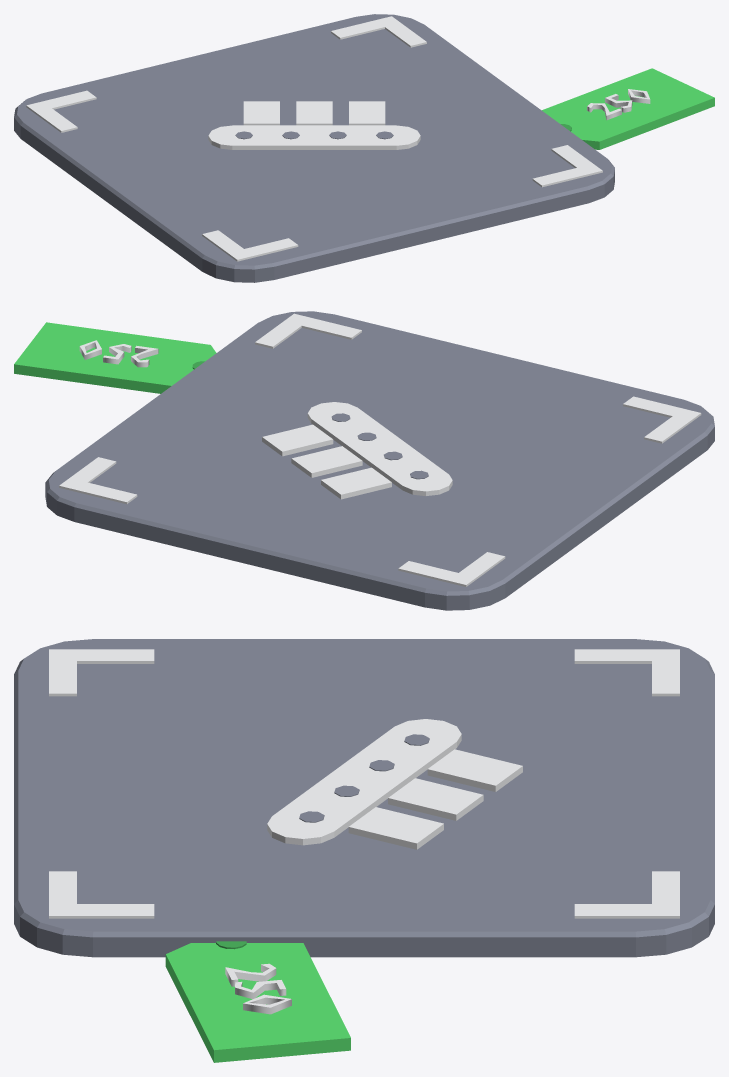
Rendered from Icon_Pad_Conveyor.glb.
3 renders of one model, top to bottom at view 1: azimuth 30°, elevation 25°; view 2: azimuth 150°, elevation 25°; view 3: azimuth 270°, elevation 25°, orthographic. The views are drawn at different scales.
Visible parts, largest first — view 1: Icon_Pad_Conveyor_Base, Icon_Pad_Conveyor_Pictogram, Icon_Pad_Conveyor_PriceTag, Icon_Pad_Conveyor_Corner_Brackets, Icon_Pad_Conveyor_PriceText; view 2: Icon_Pad_Conveyor_Base, Icon_Pad_Conveyor_Pictogram, Icon_Pad_Conveyor_PriceTag, Icon_Pad_Conveyor_Corner_Brackets, Icon_Pad_Conveyor_PriceText; view 3: Icon_Pad_Conveyor_Base, Icon_Pad_Conveyor_Pictogram, Icon_Pad_Conveyor_PriceTag, Icon_Pad_Conveyor_Corner_Brackets, Icon_Pad_Conveyor_PriceText.
Part boxes in pixels (x1,y1,x2,y2): Icon_Pad_Conveyor_Base: [14, 14, 614, 282]; Icon_Pad_Conveyor_Pictogram: [208, 101, 420, 149]; Icon_Pad_Conveyor_PriceTag: [542, 68, 714, 149]; Icon_Pad_Conveyor_Corner_Brackets: [26, 16, 602, 261]; Icon_Pad_Conveyor_PriceText: [587, 89, 650, 120]; Icon_Pad_Conveyor_Base: [45, 311, 714, 610]; Icon_Pad_Conveyor_Pictogram: [262, 402, 452, 499]; Icon_Pad_Conveyor_PriceTag: [14, 322, 216, 393]; Icon_Pad_Conveyor_Corner_Brackets: [59, 313, 701, 586]; Icon_Pad_Conveyor_PriceText: [79, 340, 158, 367]; Icon_Pad_Conveyor_Base: [14, 639, 714, 957]; Icon_Pad_Conveyor_Pictogram: [267, 719, 522, 849]; Icon_Pad_Conveyor_PriceTag: [165, 941, 350, 1062]; Icon_Pad_Conveyor_Corner_Brackets: [49, 649, 679, 918]; Icon_Pad_Conveyor_PriceText: [225, 963, 291, 1014].
Bounding box in the file's own units: 1.09 × 0.039 × 0.8.
